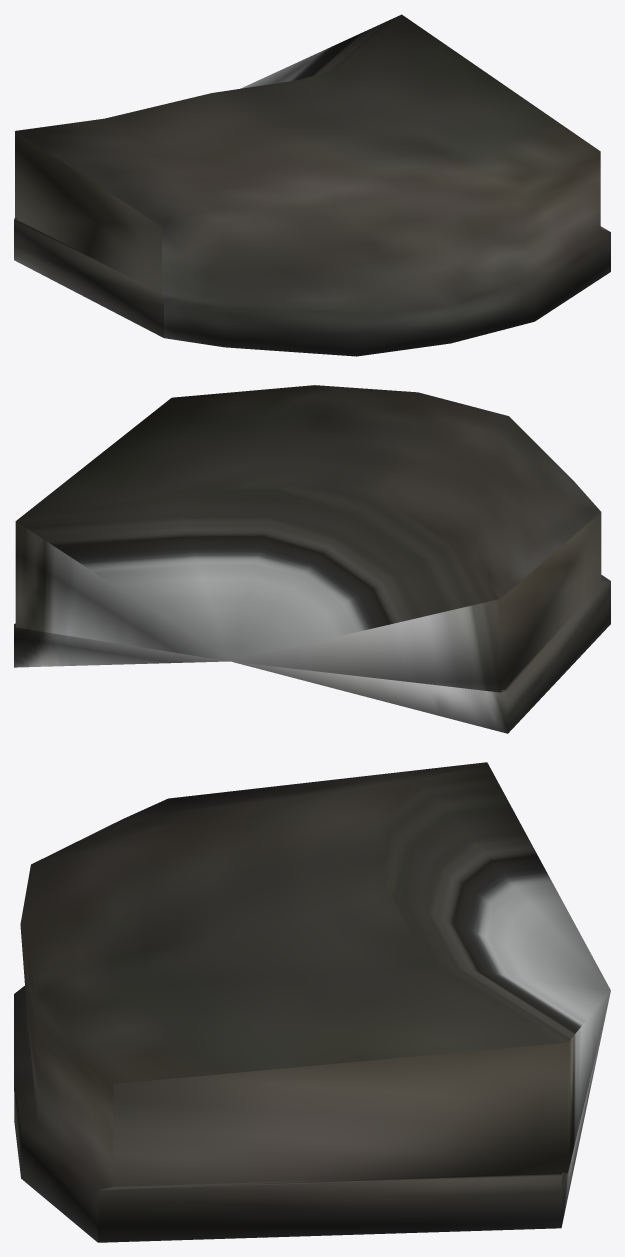
File: toes.fbx
3 renders of one model, top to bottom at view 1: azimuth 30°, elevation 25°; view 2: azimuth 150°, elevation 25°; view 3: azimuth 270°, elevation 25°, orthographic. The views are drawn at different scales.
Parts seen in each view (by area): view 1: Mesh_005; view 2: Mesh_005; view 3: Mesh_005.
Part boxes in pixels (<box>): Mesh_005: <box>14,14,610,356</box>; Mesh_005: <box>14,385,610,733</box>; Mesh_005: <box>14,762,610,1242</box>.
Size of the model in its own units: 2.68 by 1 by 2.31.
